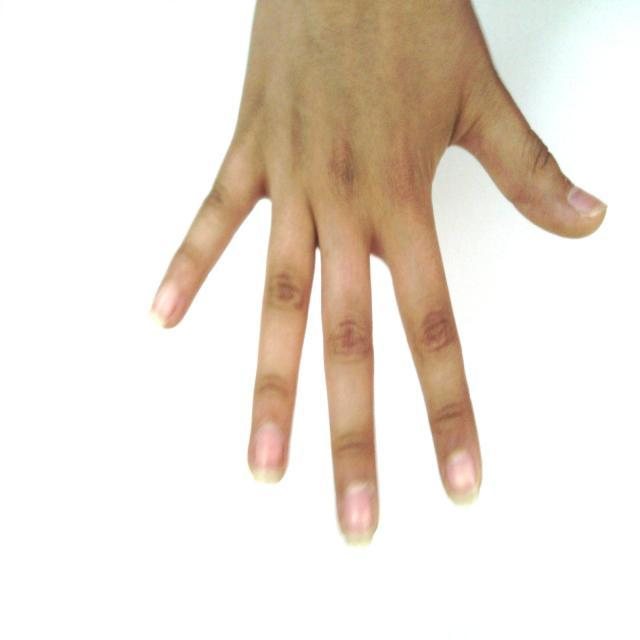Fingernail: (342, 482, 374, 546), (254, 423, 283, 482), (446, 452, 477, 504), (569, 187, 604, 216), (152, 283, 176, 324)
